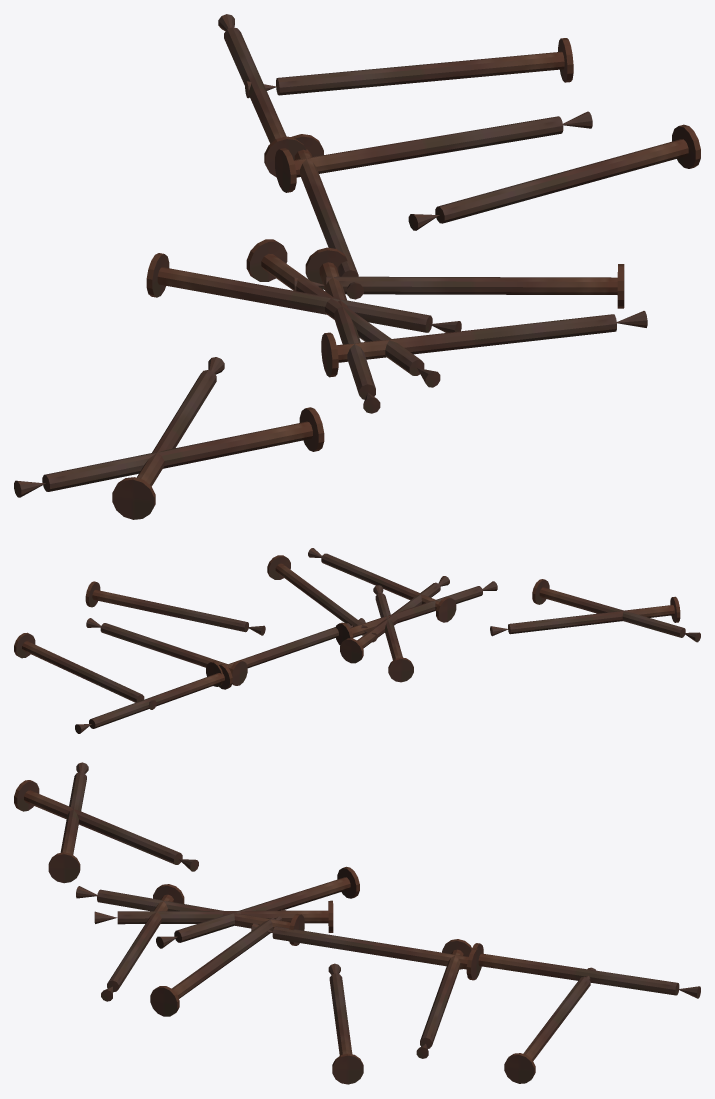
File: EST-PRG-003_lod1.glb
3 views of the same model, one above another, from view 1: azimuth 30°, elevation 25°; view 2: azimuth 150°, elevation 25°; view 3: azimuth 270°, elevation 25° (orthographic). The views are drawn at different scales.
Parts seen in each view (by area): view 1: EST-PRG-003_prego, EST-PRG-003_prego.008, EST-PRG-003_prego.002, EST-PRG-003_prego.010, EST-PRG-003_prego.005, EST-PRG-003_prego.006, EST-PRG-003_prego.003, EST-PRG-003_prego.011, EST-PRG-003_prego.001, EST-PRG-003_prego.009, EST-PRG-003_prego.007, EST-PRG-003_prego.004; view 2: EST-PRG-003_prego.008, EST-PRG-003_prego.001, EST-PRG-003_prego.010, EST-PRG-003_prego.007, EST-PRG-003_prego, EST-PRG-003_prego.002, EST-PRG-003_prego.005, EST-PRG-003_prego.009, EST-PRG-003_prego.003, EST-PRG-003_prego.004, EST-PRG-003_prego.011, EST-PRG-003_prego.006; view 3: EST-PRG-003_prego.004, EST-PRG-003_prego.007, EST-PRG-003_prego.001, EST-PRG-003_prego.006, EST-PRG-003_prego.003, EST-PRG-003_prego.011, EST-PRG-003_prego.009, EST-PRG-003_prego, EST-PRG-003_prego.008, EST-PRG-003_prego.010, EST-PRG-003_prego.005, EST-PRG-003_prego.002.
Boxes of the visible parts, x1,y1,x2,y2 form: EST-PRG-003_prego: (245, 38, 573, 98); EST-PRG-003_prego.008: (408, 124, 700, 230); EST-PRG-003_prego.002: (275, 111, 592, 192); EST-PRG-003_prego.010: (14, 407, 324, 497); EST-PRG-003_prego.005: (321, 311, 647, 377); EST-PRG-003_prego.006: (146, 253, 461, 332); EST-PRG-003_prego.003: (294, 264, 624, 308); EST-PRG-003_prego.011: (246, 239, 440, 387); EST-PRG-003_prego.001: (112, 357, 224, 519); EST-PRG-003_prego.009: (305, 247, 380, 413); EST-PRG-003_prego.007: (218, 14, 306, 177); EST-PRG-003_prego.004: (291, 134, 363, 299); EST-PRG-003_prego.008: (85, 581, 265, 635); EST-PRG-003_prego.001: (490, 596, 680, 636); EST-PRG-003_prego.010: (532, 579, 700, 642); EST-PRG-003_prego.007: (75, 664, 232, 733); EST-PRG-003_prego: (14, 632, 156, 709); EST-PRG-003_prego.002: (86, 618, 247, 685); EST-PRG-003_prego.005: (308, 548, 456, 622); EST-PRG-003_prego.009: (335, 581, 497, 645); EST-PRG-003_prego.003: (267, 555, 377, 642); EST-PRG-003_prego.004: (206, 618, 365, 686); EST-PRG-003_prego.011: (340, 576, 449, 663); EST-PRG-003_prego.006: (373, 585, 413, 682); EST-PRG-003_prego.004: (251, 923, 481, 980); EST-PRG-003_prego.007: (471, 943, 700, 998); EST-PRG-003_prego.001: (14, 780, 198, 871); EST-PRG-003_prego.006: (156, 866, 359, 948); EST-PRG-003_prego.003: (150, 909, 286, 1016); EST-PRG-003_prego.011: (94, 900, 333, 932); EST-PRG-003_prego.009: (76, 886, 304, 945); EST-PRG-003_prego: (504, 967, 595, 1083); EST-PRG-003_prego.008: (328, 963, 363, 1084); EST-PRG-003_prego.010: (48, 762, 88, 883); EST-PRG-003_prego.005: (101, 884, 184, 1001); EST-PRG-003_prego.002: (416, 939, 471, 1058).
Bounding box in the file's own units: 0.2065 × 0.00924 × 0.1976.
Materials: 1 (1 with a texture image).
